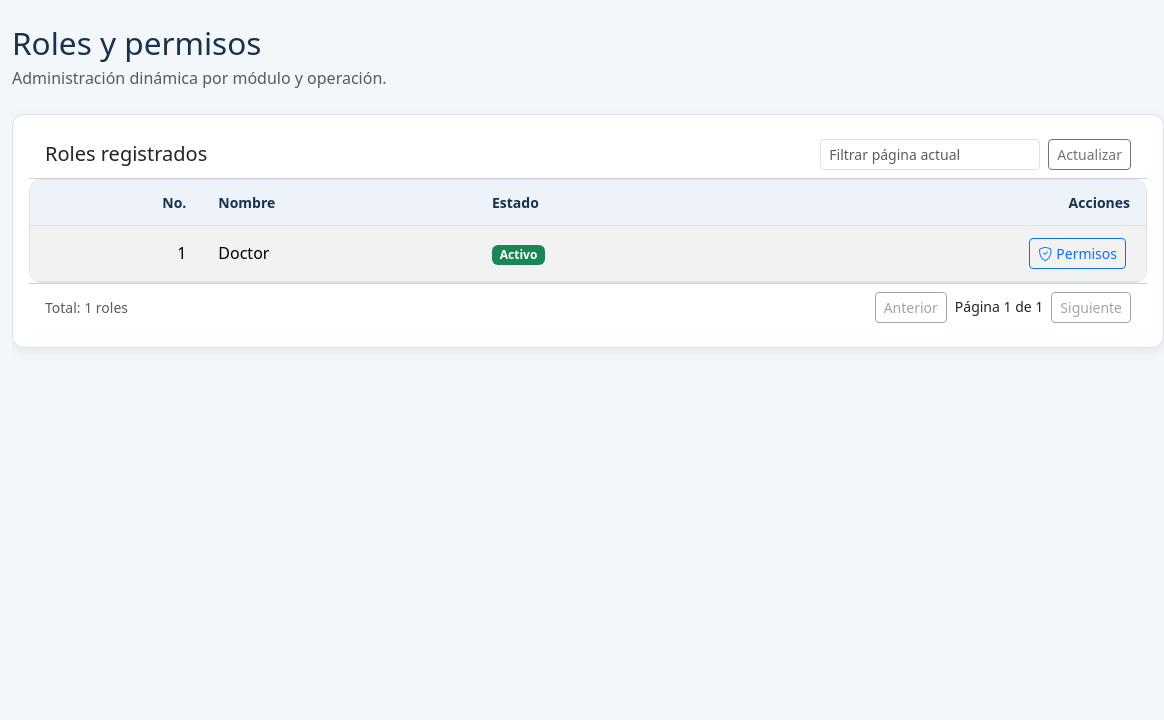
it: RolesComponent › deshabilita operaciones que no existen en el controlador del módulo
Step 1. Click the button with aria-label "Administrar permisos de Doctor" → x=1078, y=253, box left=1029, top=238, right=1126, bottom=269
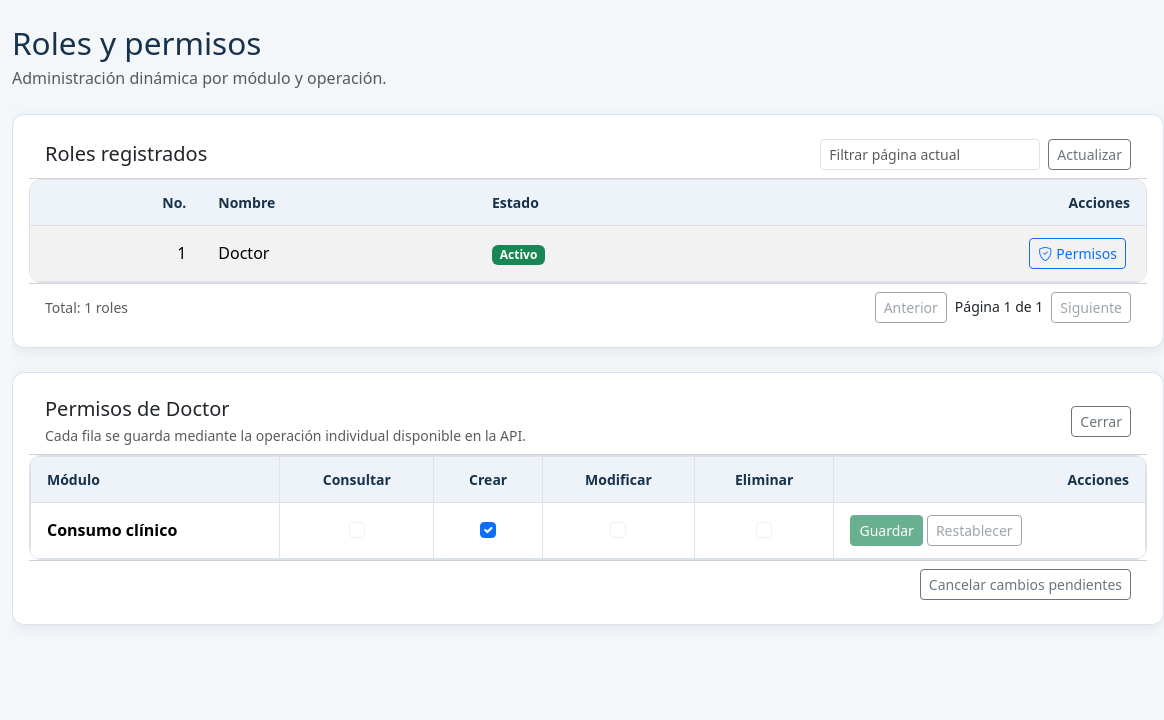
expect the checkbox named "ConsumoClinico: Crear" is enabled: met, box left=480, top=522, right=496, bottom=538
